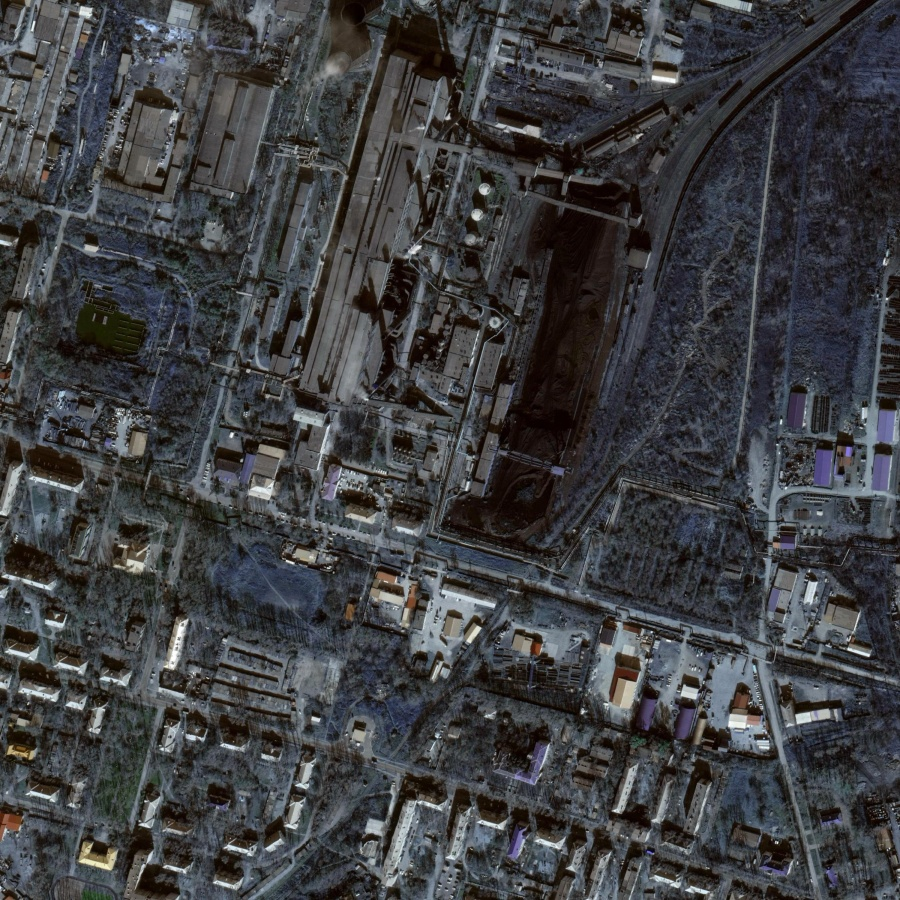PowerPlant: (348, 105, 652, 539)
